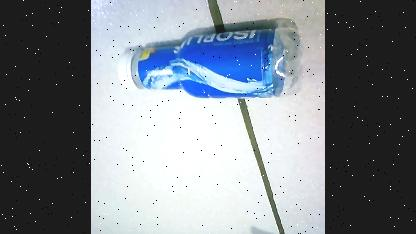Plastic Bottle: (114, 16, 304, 116)
